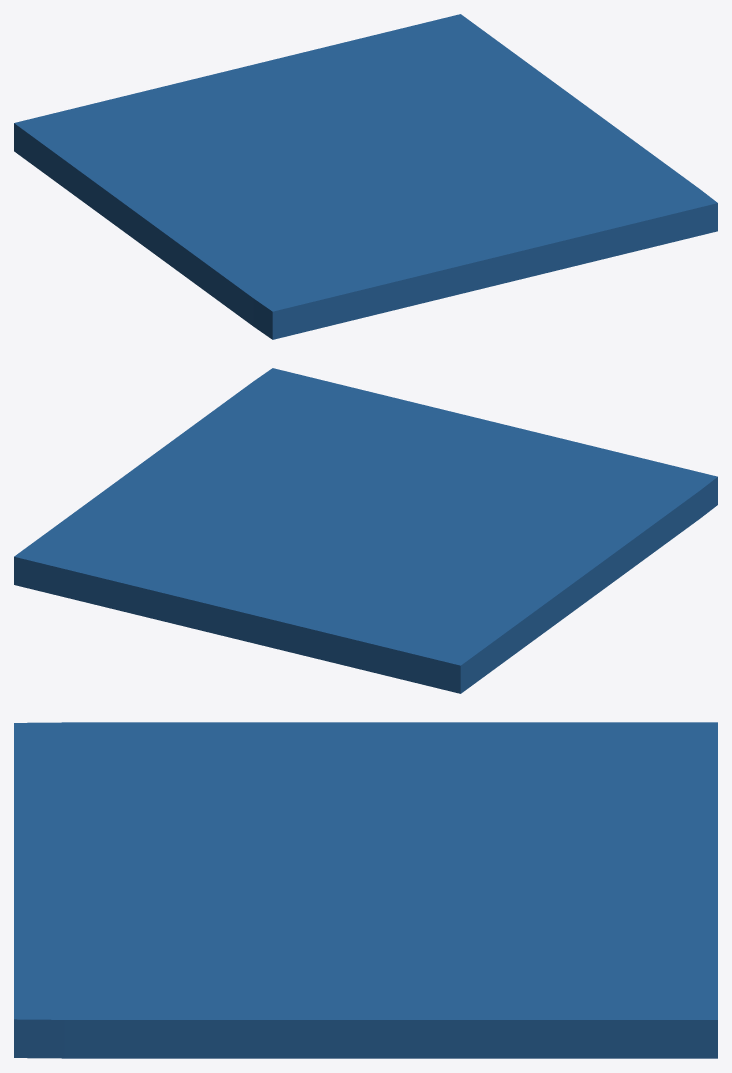
Rendered from Street_Empty_Water.glb.
3 renders of one model, top to bottom at view 1: azimuth 30°, elevation 25°; view 2: azimuth 150°, elevation 25°; view 3: azimuth 270°, elevation 25°, orthographic. The views are drawn at different scales.
Visible parts, largest first — view 1: Street_Empty_Water; view 2: Street_Empty_Water; view 3: Street_Empty_Water.
Boxes of the visible parts, x1=… form: Street_Empty_Water: x1=14, y1=14, x2=717, y2=339; Street_Empty_Water: x1=14, y1=368, x2=717, y2=693; Street_Empty_Water: x1=14, y1=722, x2=717, y2=1058.
Size of the model in its own units: 2 by 0.1209 by 2.
